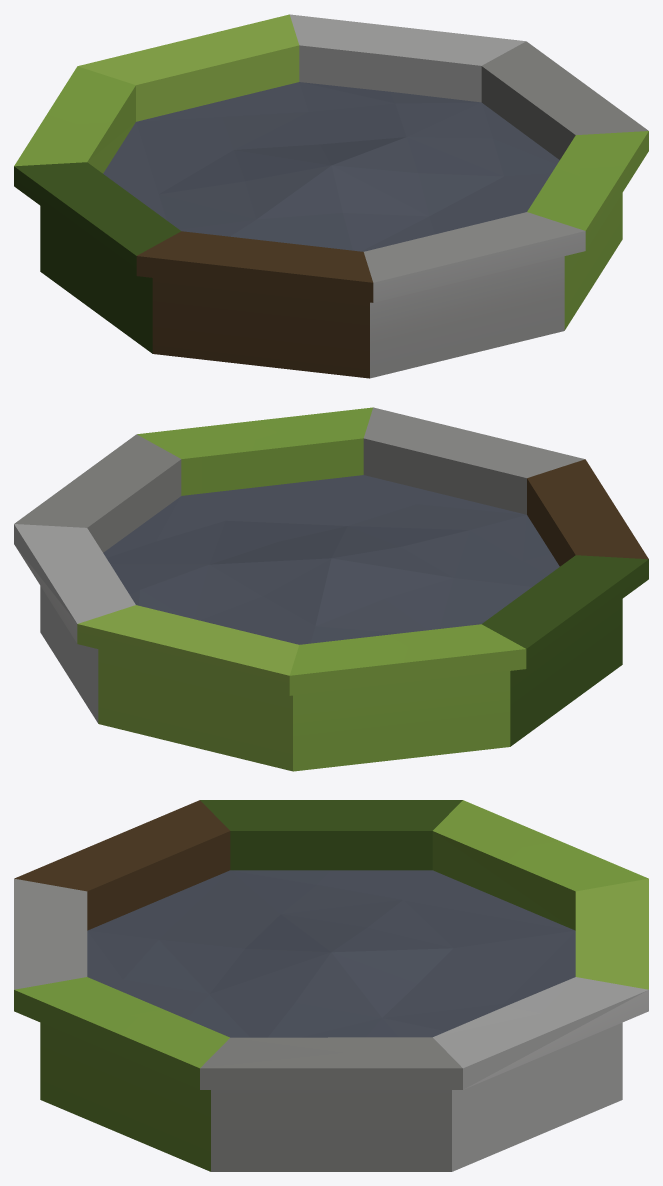
The model's file is Playground_02.fbx.
3 renders of one model, top to bottom at view 1: azimuth 30°, elevation 25°; view 2: azimuth 150°, elevation 25°; view 3: azimuth 270°, elevation 25°, orthographic. The views are drawn at different scales.
Visible parts, largest first — view 1: Playground_02; view 2: Playground_02; view 3: Playground_02.
Part boxes in pixels (<box>): Playground_02: <box>14,14,648,378</box>; Playground_02: <box>14,407,648,771</box>; Playground_02: <box>14,800,648,1171</box>.
Size of the model in its own units: 1.34 by 0.2678 by 1.34.
